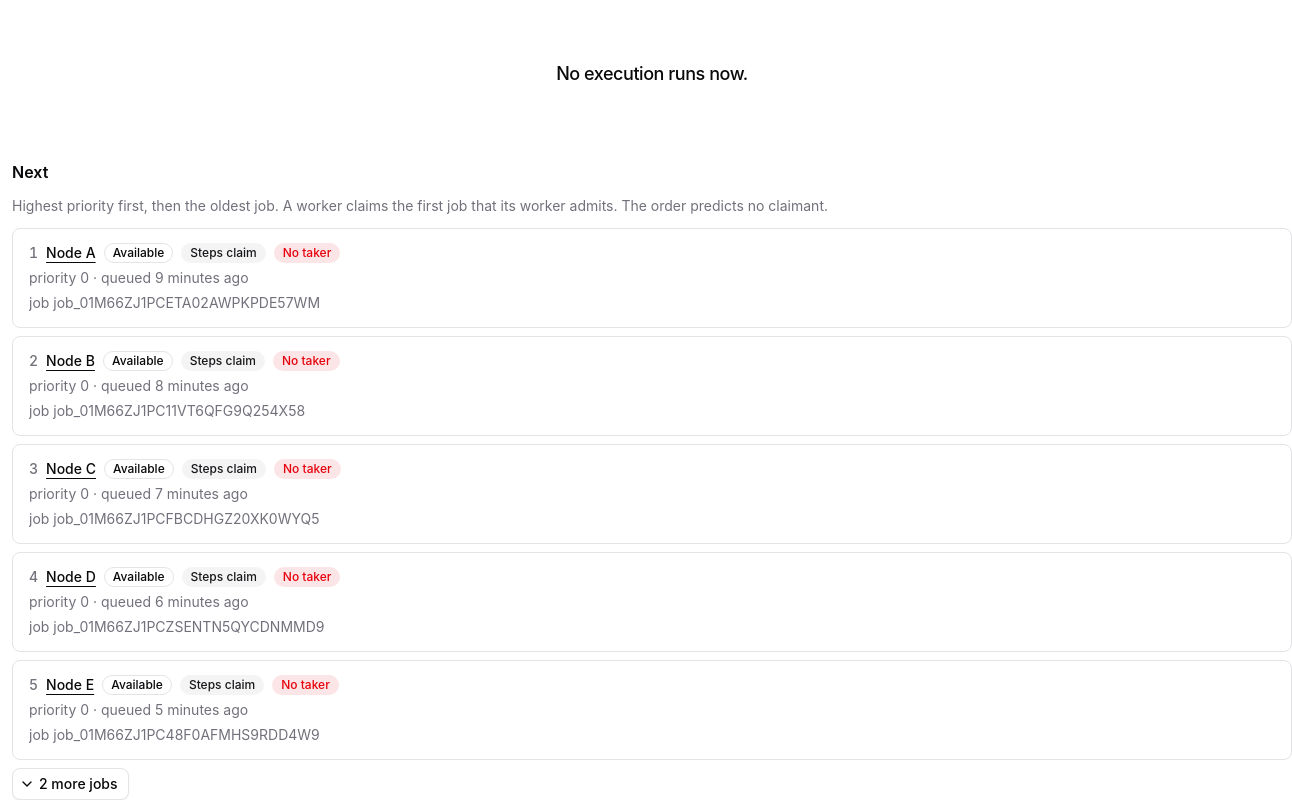
Test: SchedulerScreen views › shows the first five jobs of a queue and the rest on demand
(page scrolled)
What coordinates should you click on to do the following:
click the button "2 more jobs"
I would click on:
 (70, 784)
Its box is [12,768,128,799].
(page scrolled)
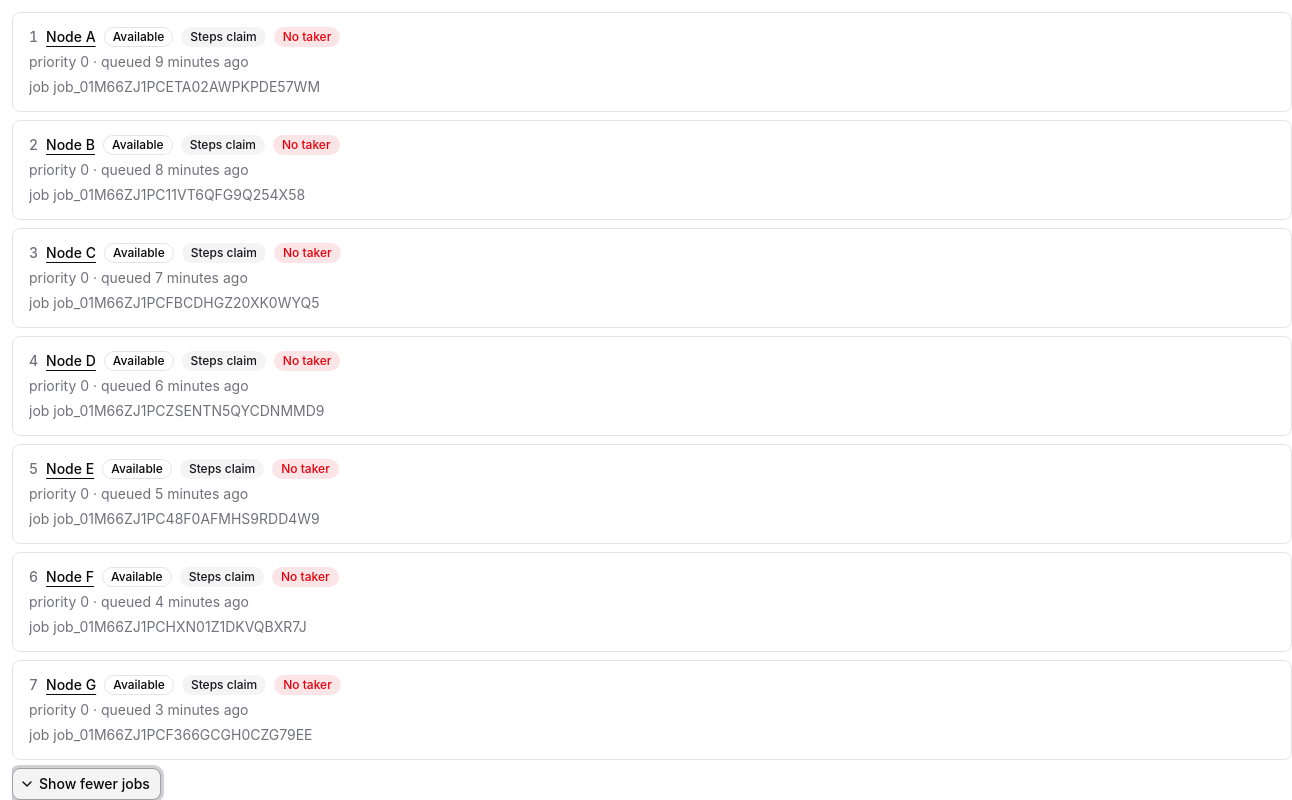
What coordinates should you click on to do the following:
click the button "Show fewer jobs"
I would click on:
 (86, 784)
Its box is [12,768,161,799].
(page scrolled)
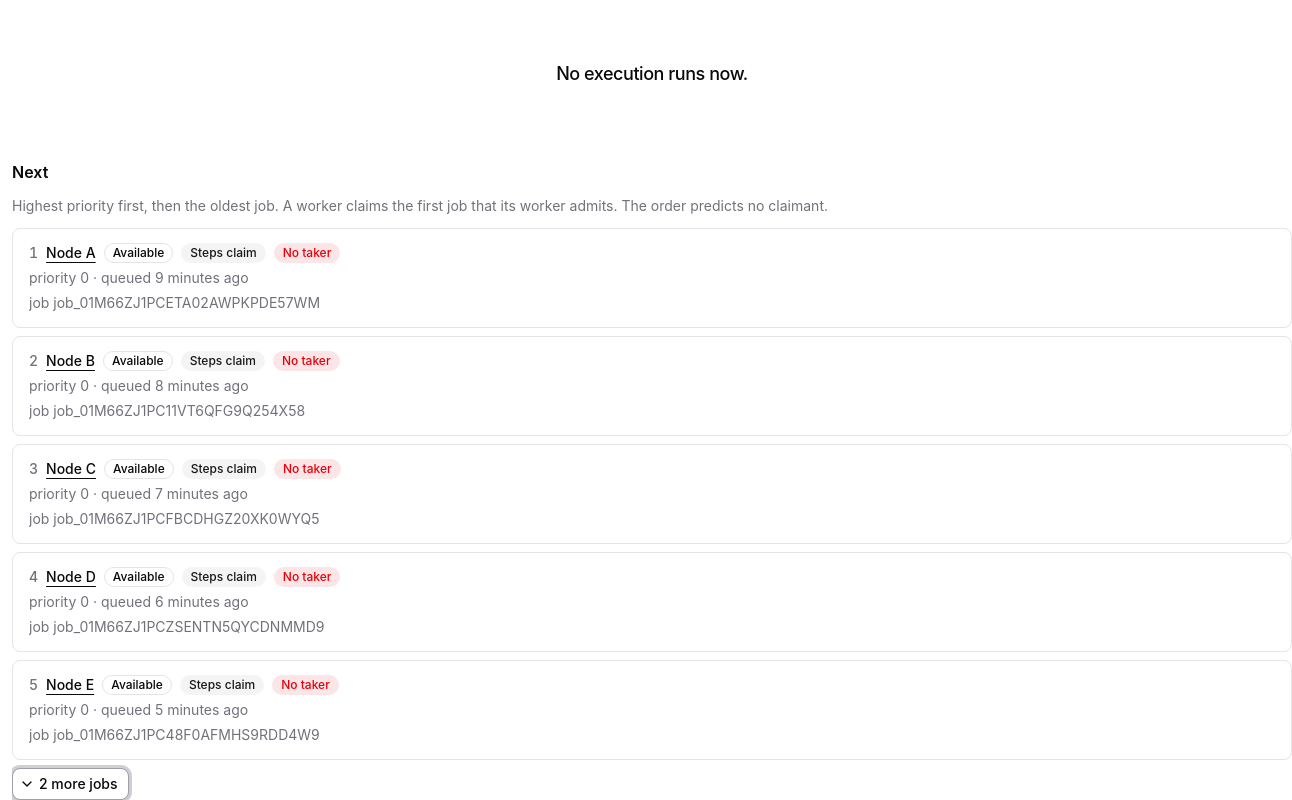
Check: the button "2 more jobs" is shown, box [12,768,128,799]
